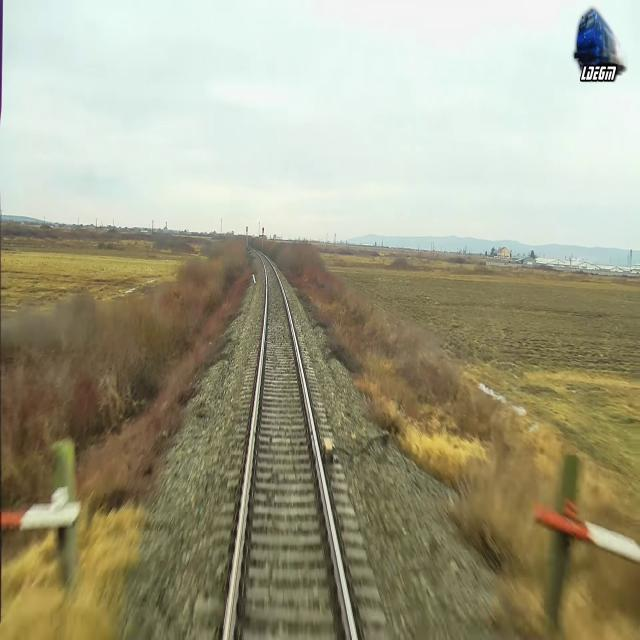rail-track: (228, 251, 353, 639)
